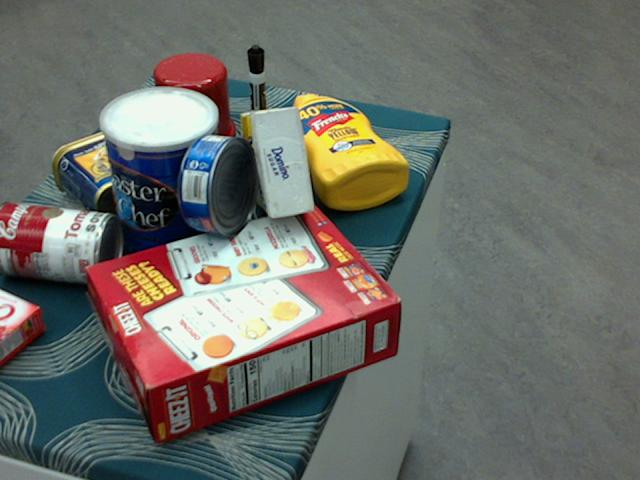cracker_box: (86, 202, 401, 442)
gelatin_box: (0, 288, 46, 369)
large_marker: (246, 44, 266, 149)
master_chef_can: (99, 88, 223, 273)
mug: (152, 54, 235, 153)
mustard_bottle: (283, 92, 408, 209)
potted_meat_can: (51, 124, 180, 224)
sugar_box: (237, 107, 313, 218)
tomato_soup_can: (0, 198, 121, 286)
tuna_fish_can: (177, 133, 258, 234)
